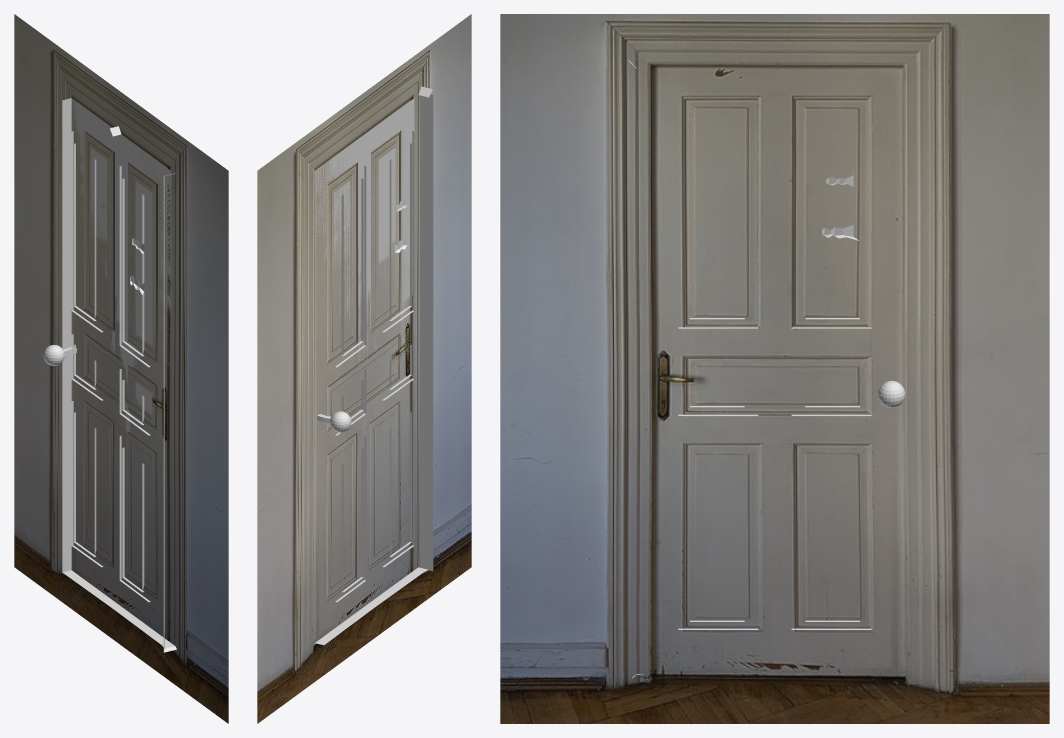
File: door.gltf
The picture shows the model from 3 angles, left to right: view 1: azimuth 30°, elevation 25°; view 2: azimuth 150°, elevation 25°; view 3: azimuth 270°, elevation 25°; orthographic projection. The views are drawn at different scales.
Parts seen in each view (by area): view 1: 420px-Simple_door_inside_the_BCR_Headquarters_Building,_in_B, Plane, Sphere; view 2: 420px-Simple_door_inside_the_BCR_Headquarters_Building,_in_B, Plane, Sphere; view 3: 420px-Simple_door_inside_the_BCR_Headquarters_Building,_in_B, Plane.
Boxes of the visible parts, x1,y1,x2,y2 form: 420px-Simple_door_inside_the_BCR_Headquarters_Building,_in_B: [14, 14, 228, 723]; Plane: [62, 98, 176, 652]; Sphere: [43, 345, 76, 365]; 420px-Simple_door_inside_the_BCR_Headquarters_Building,_in_B: [257, 14, 471, 723]; Plane: [314, 86, 433, 645]; Sphere: [317, 411, 351, 432]; 420px-Simple_door_inside_the_BCR_Headquarters_Building,_in_B: [500, 14, 1049, 723]; Plane: [628, 60, 871, 678].
Size of the model in its own units: 0.2143 by 2.21 by 1.55.
Materials: 1 (1 with a texture image).
